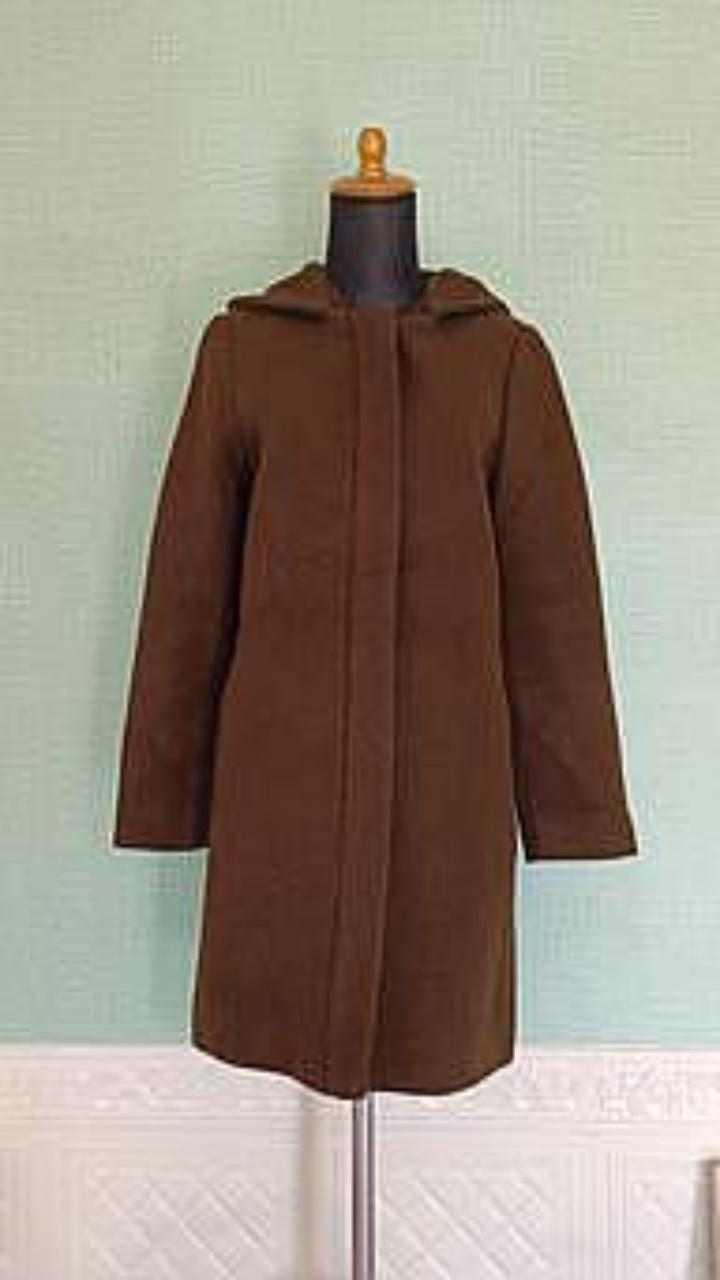Coat: (113, 260, 637, 1097)
